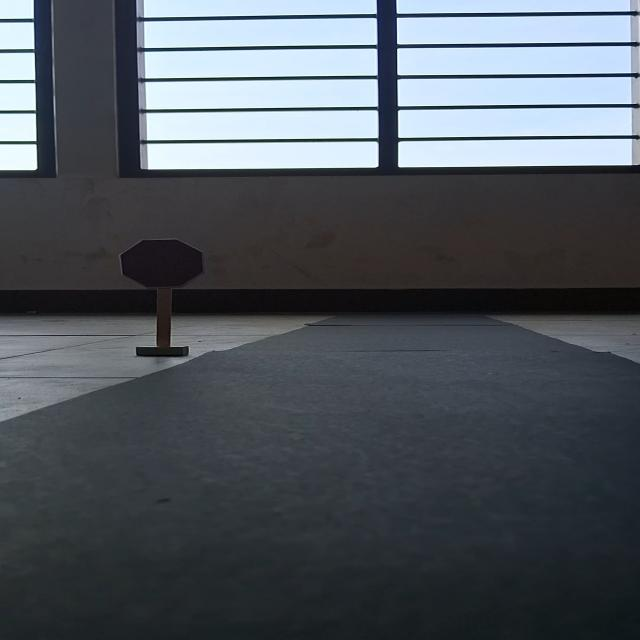Stop: (119, 238, 207, 288)
